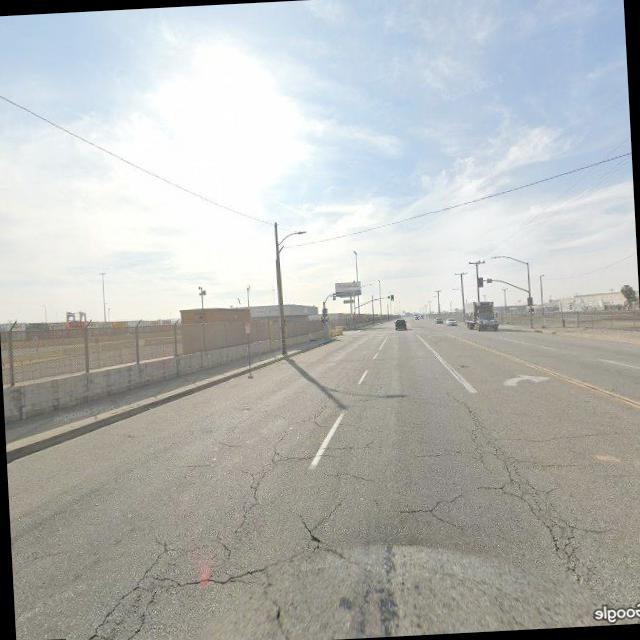crack: (46, 378, 632, 640)
